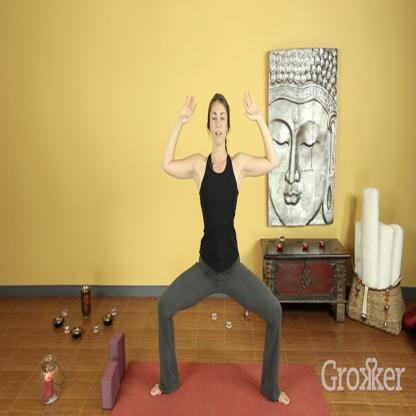godness: (148, 87, 293, 407)
